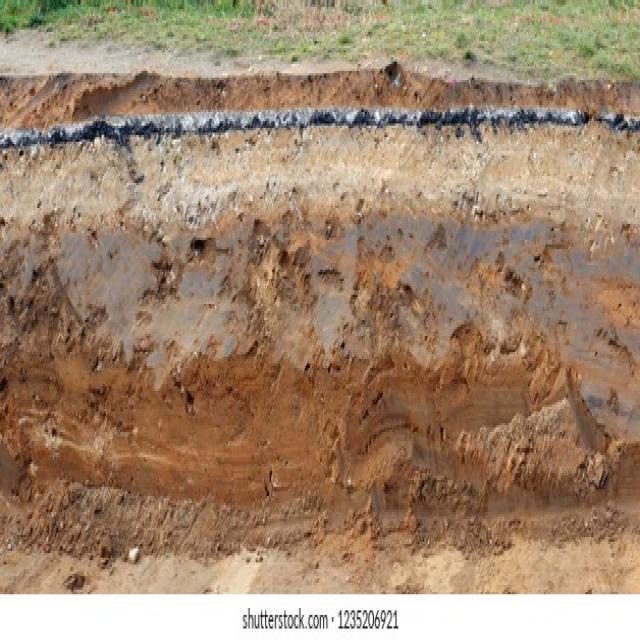Clay Soil: (10, 182, 622, 556)
